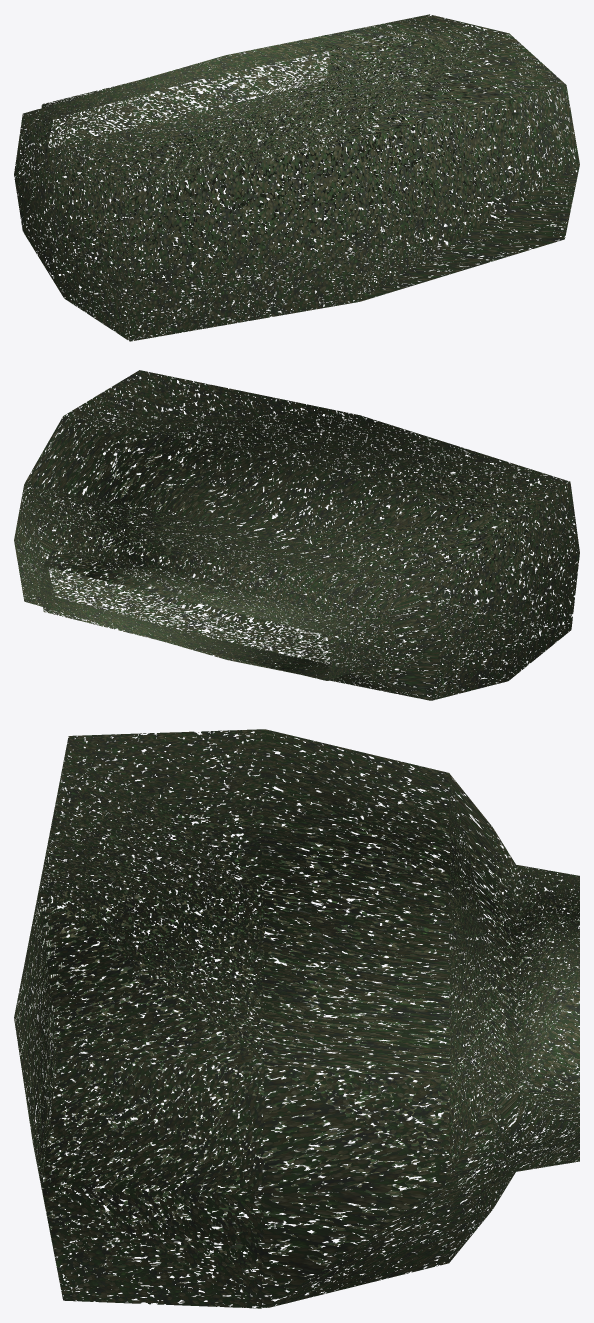
File: nt_2020_foliage_hedge_boxy01_LOD2.obj
The picture shows the model from 3 angles, top to bottom: view 1: azimuth 30°, elevation 25°; view 2: azimuth 150°, elevation 25°; view 3: azimuth 270°, elevation 25°; orthographic projection. The views are drawn at different scales.
Visible parts, largest first — view 1: mtl_p6_foliage_hedge2; view 2: mtl_p6_foliage_hedge2; view 3: mtl_p6_foliage_hedge2.
Part boxes in pixels (x1,y1,x2,y2): mtl_p6_foliage_hedge2: [14, 14, 579, 341]; mtl_p6_foliage_hedge2: [14, 370, 579, 700]; mtl_p6_foliage_hedge2: [14, 729, 579, 1308].
Size of the model in its own units: 339 by 120 by 230.
